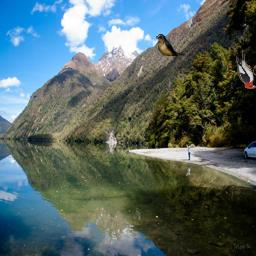Swallow: (156, 34, 186, 56)
Woodpecker: (236, 49, 256, 89)
